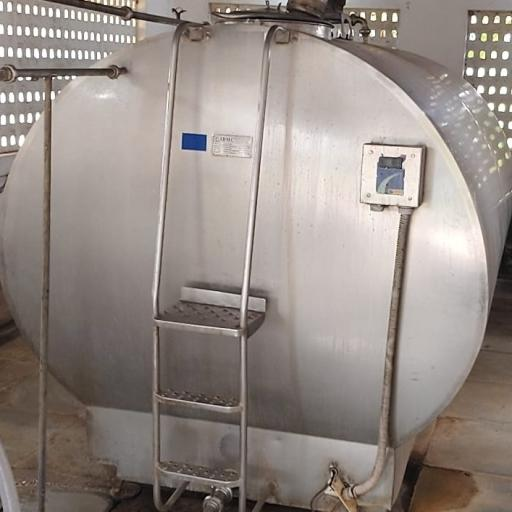silo: (0, 7, 511, 507)
